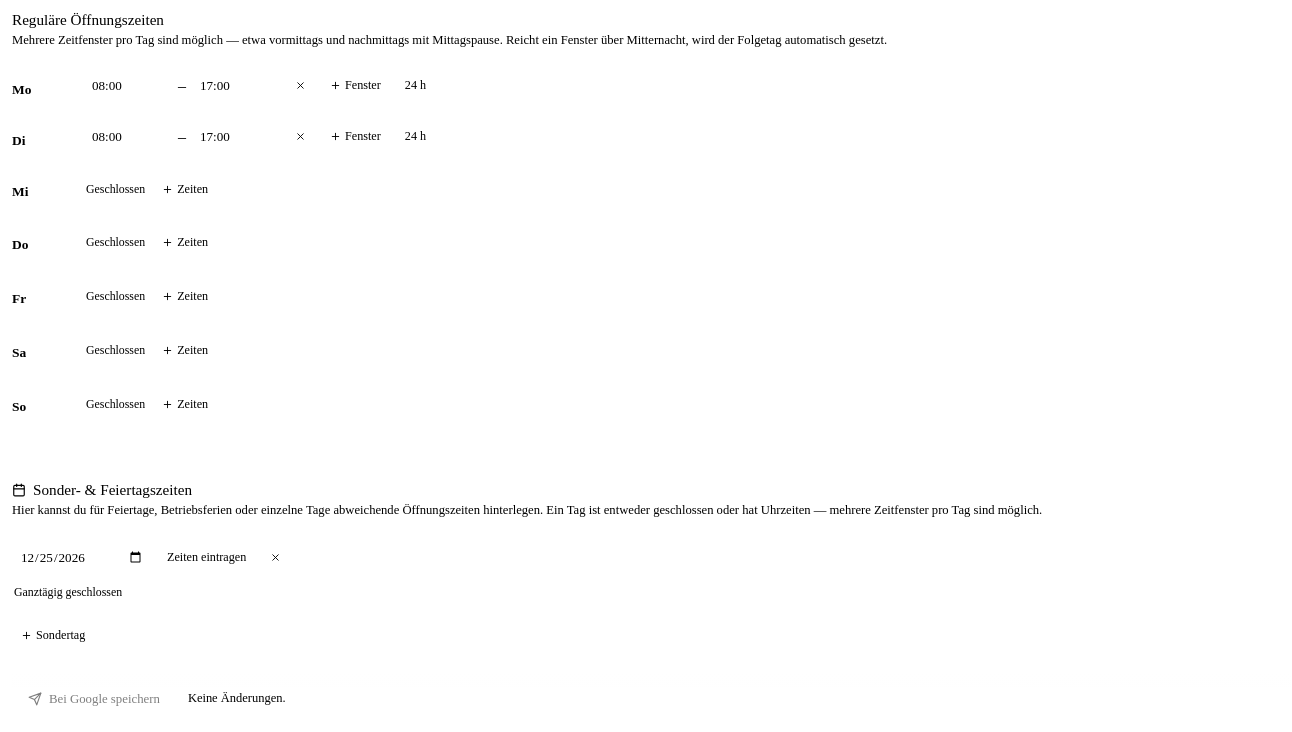
it: Validierung vor dem Senden › beanstandet ein Zeitfenster ohne Dauer
The image size is (1292, 732).
In the field named "Montag Schließung 1": (236, 86) [192,72,280,100], type "08:00"
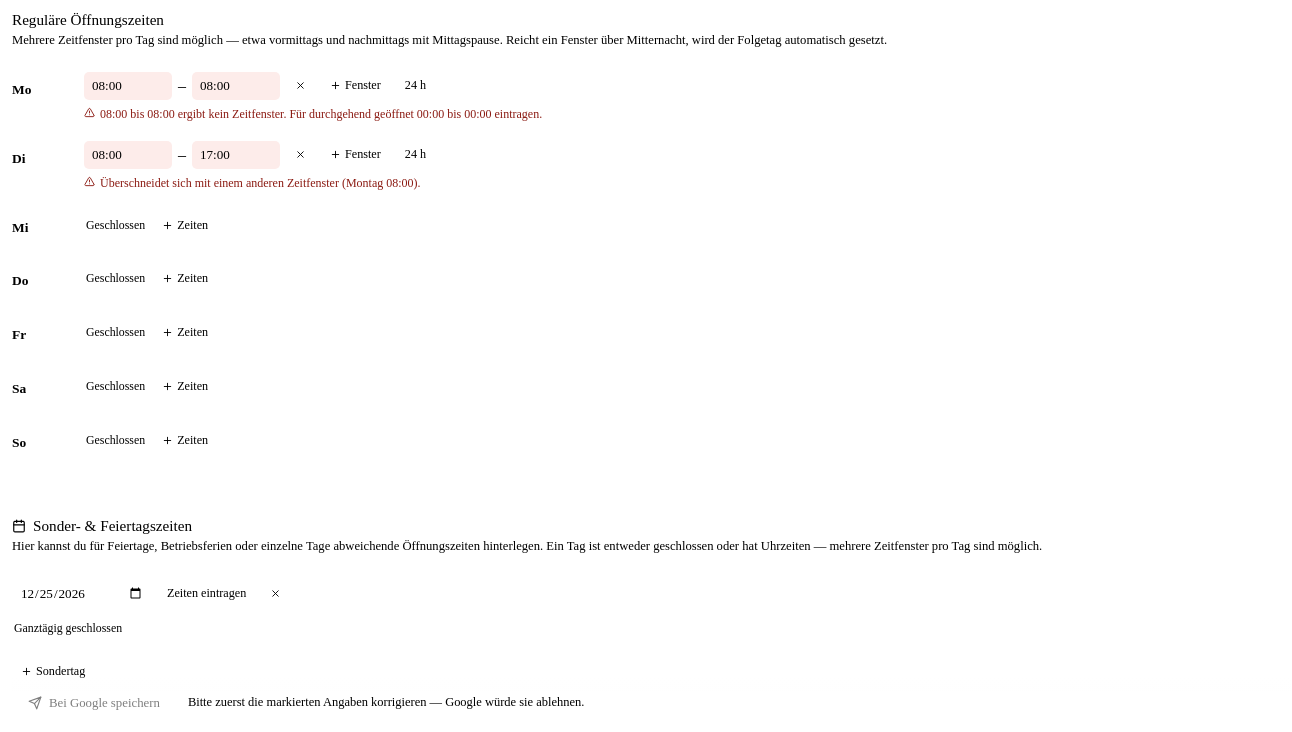
Expected: the button "Bei Google speichern" is disabled, [12,687,176,720]
Now the text "kein Zeitfenster" is shown, box [100,106,542,120]
